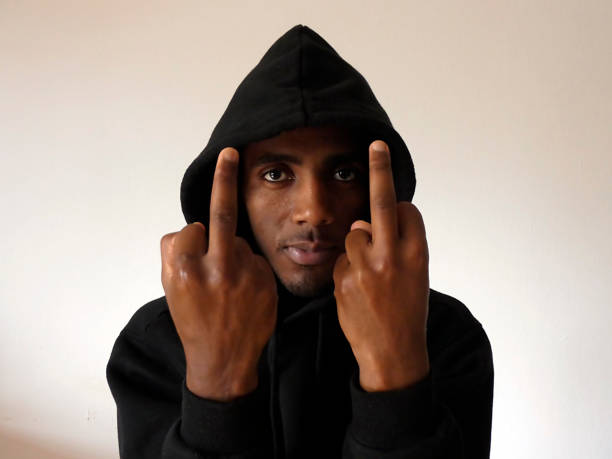insulting_gesture: (154, 146, 284, 376), (330, 138, 432, 350)
